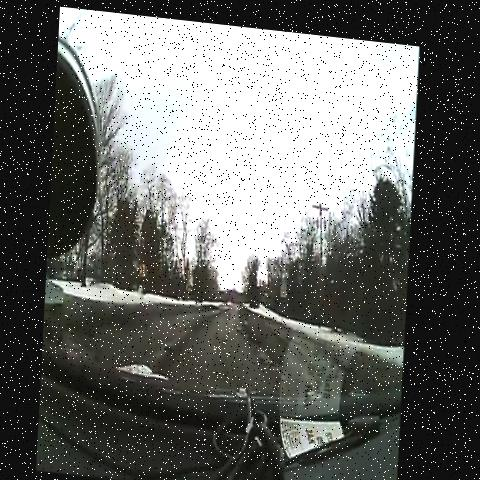pothole: (158, 329, 191, 361)
